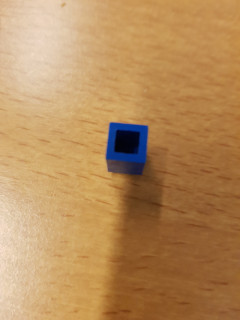1x1 blue: (104, 120, 150, 178)
